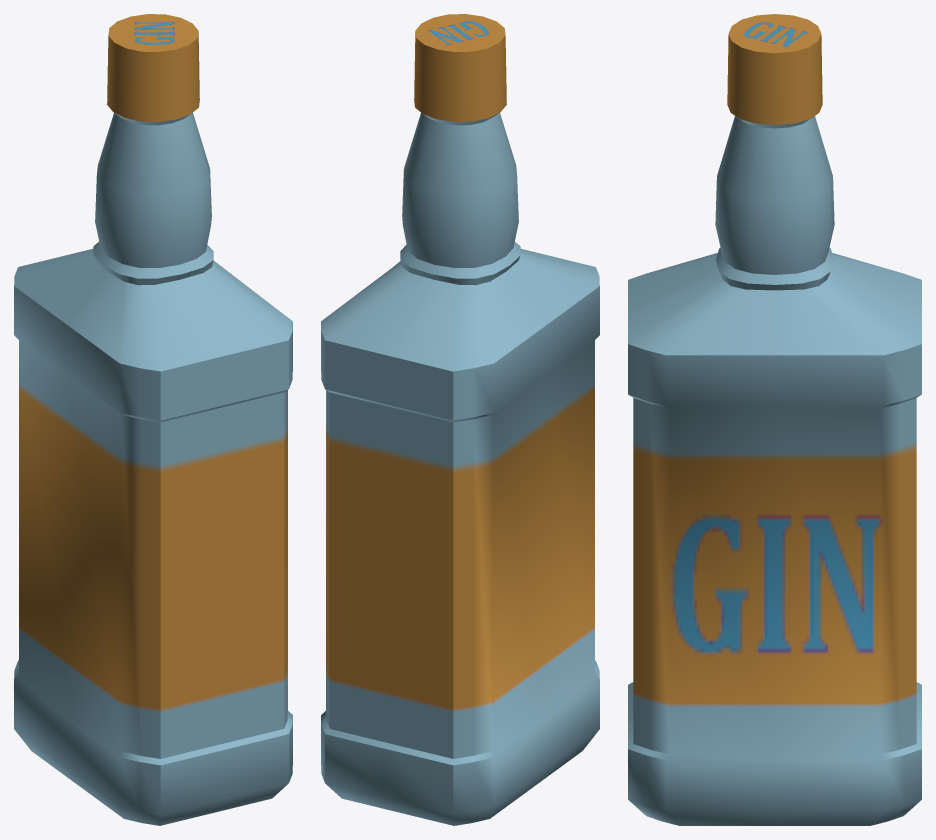
Rendered from bottle-gin.fbx.
3 views of the same model, side by side, from view 1: azimuth 30°, elevation 25°; view 2: azimuth 150°, elevation 25°; view 3: azimuth 270°, elevation 25° (orthographic). The views are drawn at different scales.
Parts seen in each view (by area): view 1: bottle_gin; view 2: bottle_gin; view 3: bottle_gin.
Boxes of the visible parts, <box> form: bottle_gin: <box>14,14,292,825</box>; bottle_gin: <box>321,14,599,825</box>; bottle_gin: <box>628,14,921,825</box>.
Size of the model in its own units: 0.0719 by 0.2912 by 0.1028.
